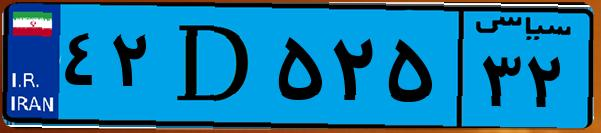2: (330, 28, 385, 110), (525, 38, 570, 115), (110, 28, 158, 98)
3: (475, 38, 525, 113)
4: (57, 26, 110, 100)
5: (270, 28, 330, 110), (385, 28, 445, 110)
D: (158, 12, 270, 120)
